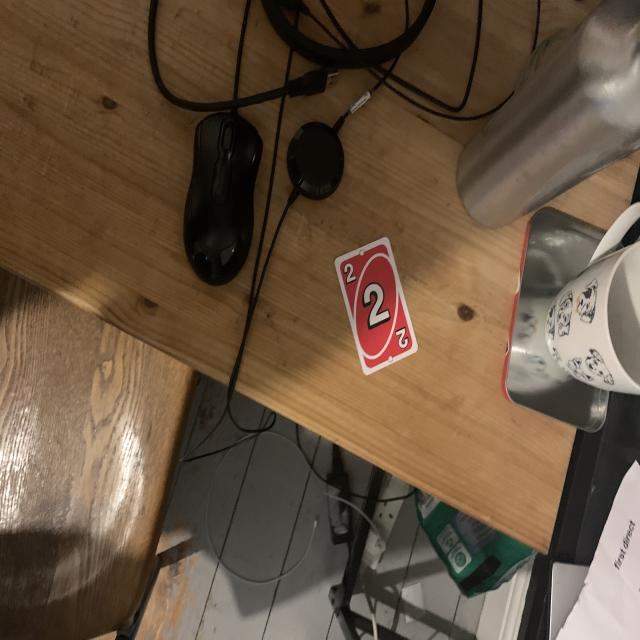lred-2: (342, 259, 358, 285)
